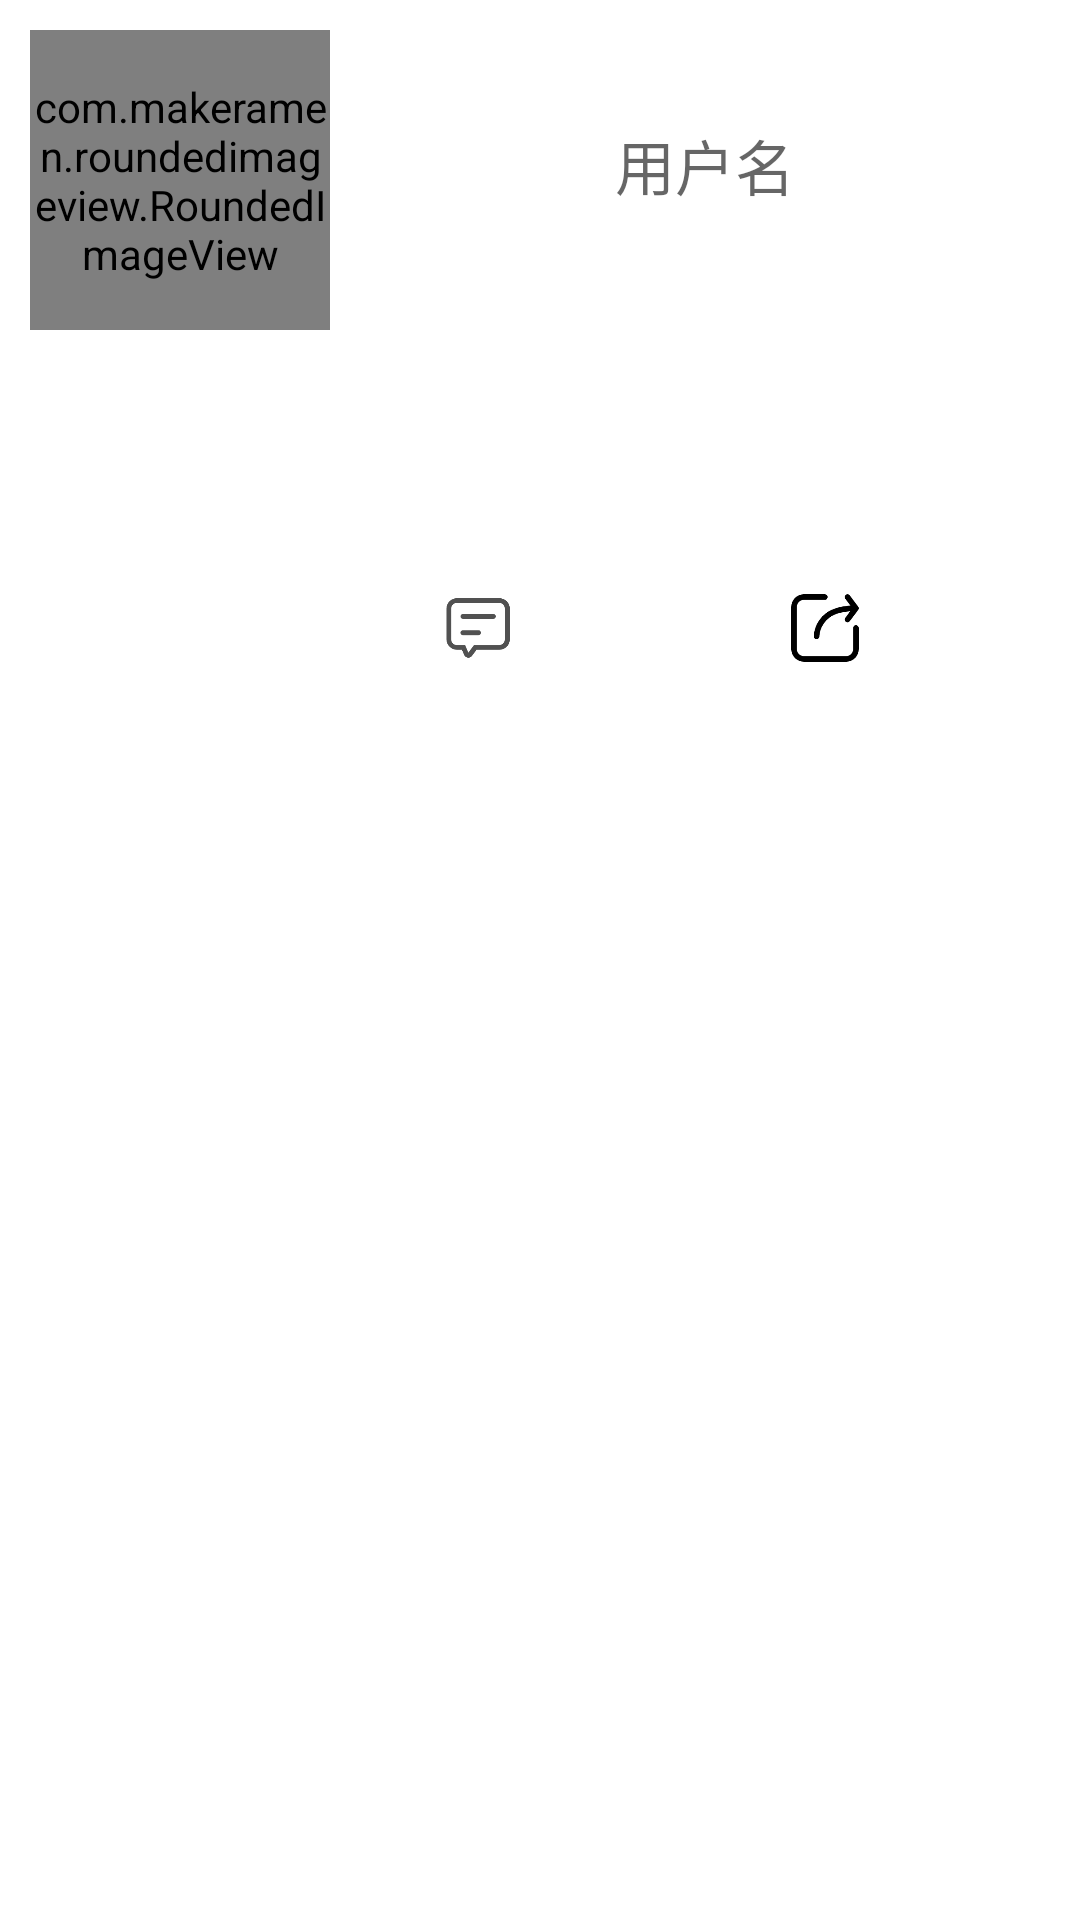

Locate icon controls on the screen. Image size 1080x1920, boxes as (x1, y1, x2, y2).
comment exper: (446, 598, 510, 658)
share: (791, 594, 859, 662)
